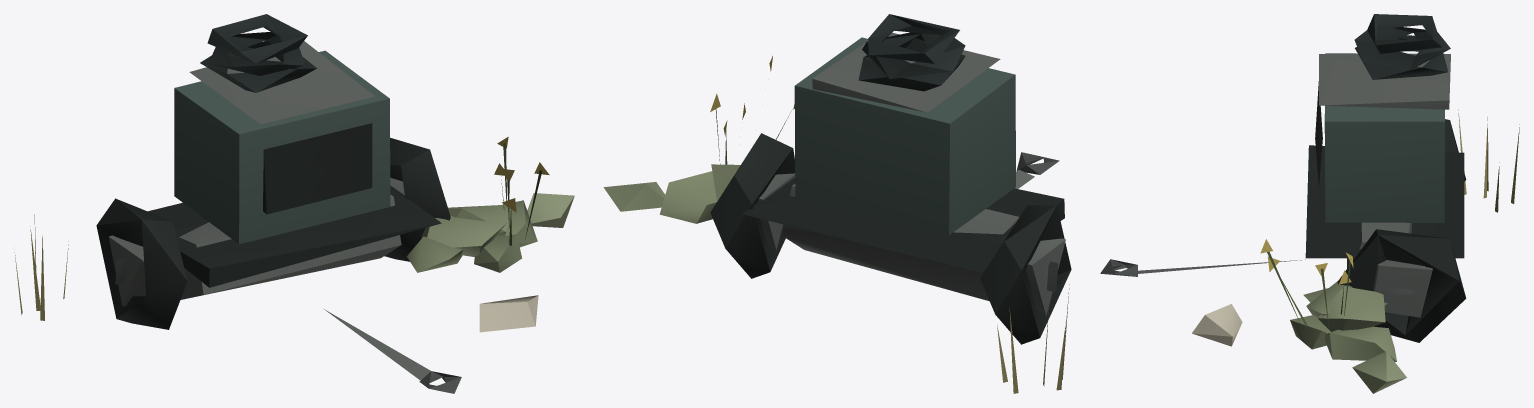
File: compressor_cart_c_lod2.glb
The picture shows the model from 3 angles, left to right: view 1: azimuth 30°, elevation 25°; view 2: azimuth 150°, elevation 25°; view 3: azimuth 270°, elevation 25°; orthographic projection. The views are drawn at different scales.
Visible parts, largest first — view 1: Surface.001; view 2: Surface.001; view 3: Surface.001.
Part boxes in pixels (left/top/right/bottom): Surface.001: left=14, top=14, right=574, bottom=393; Surface.001: left=603, top=14, right=1071, bottom=393; Surface.001: left=1100, top=14, right=1519, bottom=393.
Size of the model in its own units: 4.9 by 2.49 by 3.81.
